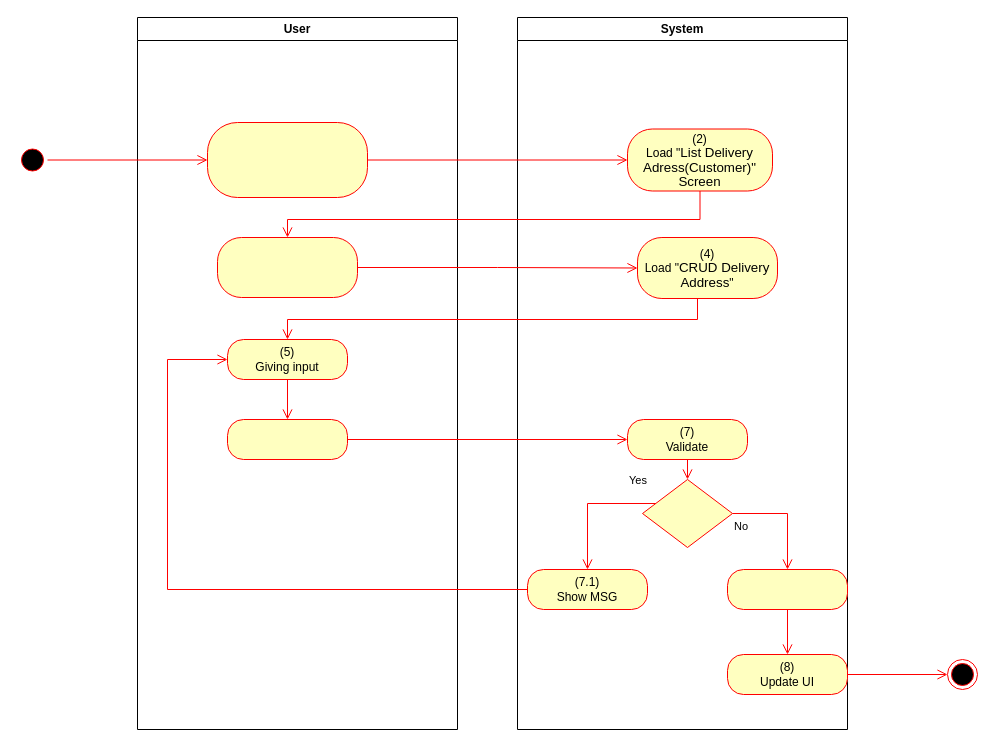
Some shapes in this 995 by 747 pixel diagram are drawn without their labels. Each missing label, with the centre of its shape:
(1) On "left menu" click " Delivery Address ": (x=287, y=160)
(3) Click button "Chỉnh sửa" trên 1 item địa chỉ giao hàng bất kỳ: (x=287, y=267)
(6) Click "Lưu": (x=287, y=439)
(7.2) Update new delivery address to DB: (x=787, y=589)
